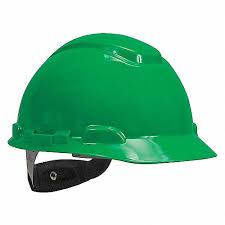Casco de seguridad: (9, 33, 217, 206)
